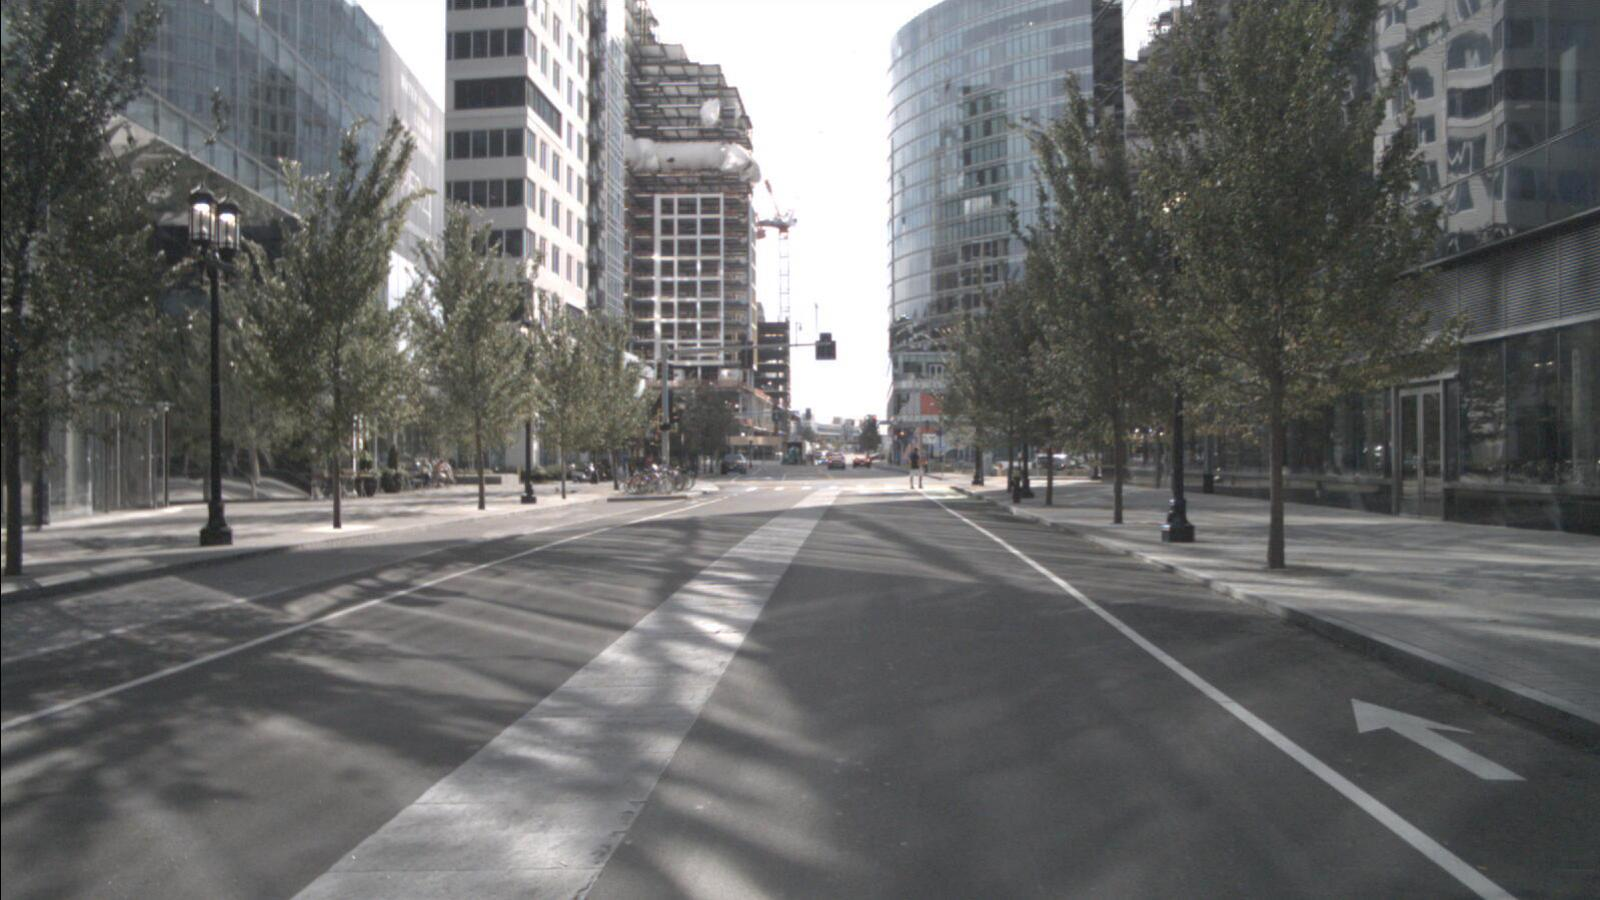human.pedestrian.adult-pedestrian.moving: (908, 447, 924, 490)
human.pedestrian.adult-pedestrian.sitting_lying_down: (418, 458, 432, 488), (435, 459, 448, 488)
